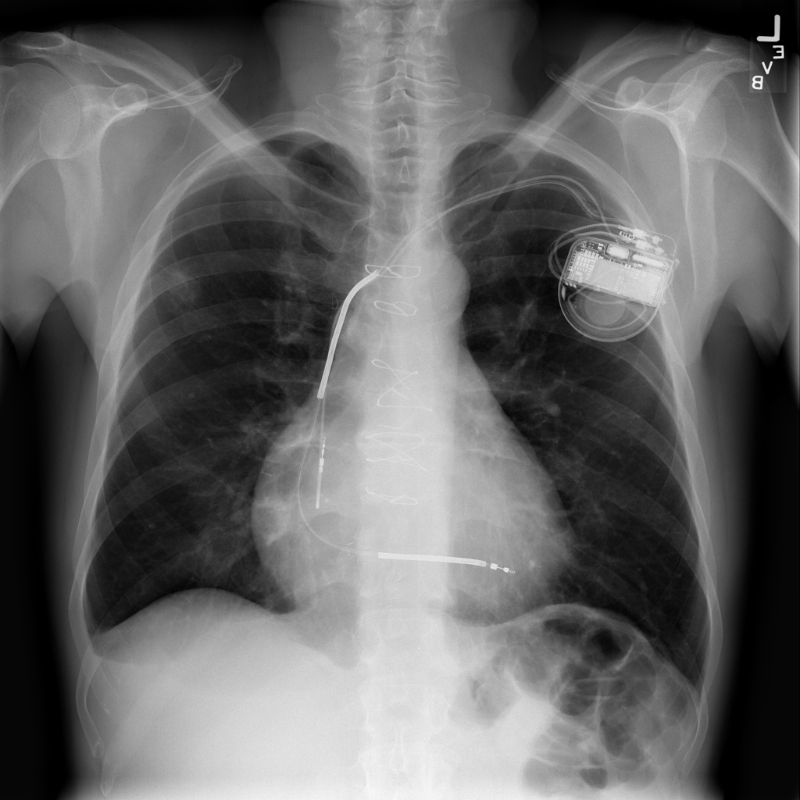PLEURAL EFFUSION: (65, 586, 175, 722)
